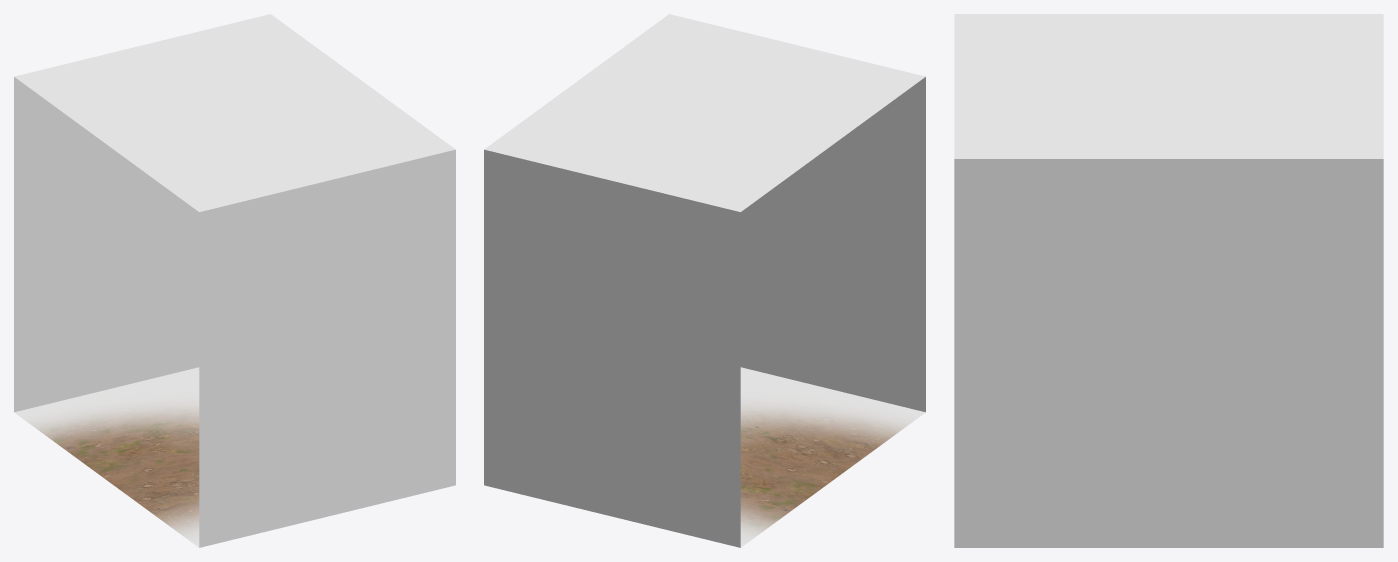
The model's file is Outdoor_box_2.fbx.
The picture shows the model from 3 angles, left to right: view 1: azimuth 30°, elevation 25°; view 2: azimuth 150°, elevation 25°; view 3: azimuth 270°, elevation 25°; orthographic projection. The views are drawn at different scales.
Visible parts, largest first — view 1: Outdoor_box_2; view 2: Outdoor_box_2; view 3: Outdoor_box_2.
Part boxes in pixels (x1,y1,x2,y2): Outdoor_box_2: (14,14,455,547); Outdoor_box_2: (484,14,925,547); Outdoor_box_2: (954,14,1383,547).
Size of the model in its own units: 2.4 by 3 by 3.
